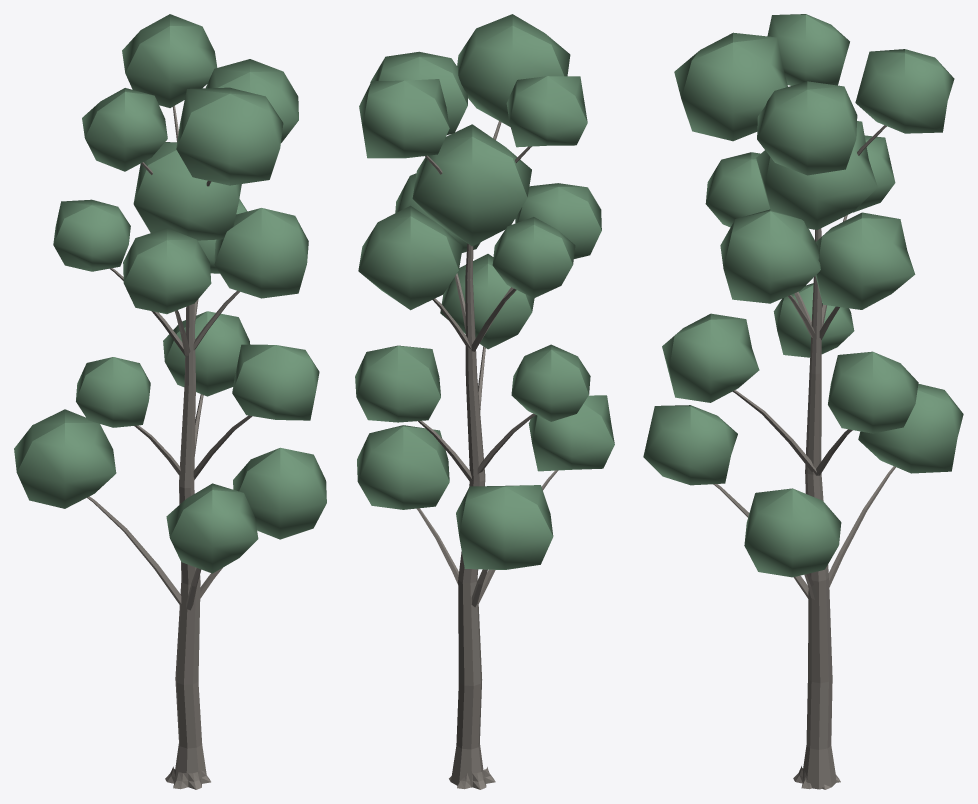
The model's file is dense-temperate-forest-flora-alder-mature-0319bc89__28333.glb.
3 views of the same model, side by side, from view 1: azimuth 30°, elevation 25°; view 2: azimuth 150°, elevation 25°; view 3: azimuth 270°, elevation 25° (orthographic). The views are drawn at different scales.
Visible parts, largest first — view 1: alder-mature; view 2: alder-mature; view 3: alder-mature.
Part boxes in pixels (x1,y1,x2,y2): alder-mature: [14, 14, 326, 789]; alder-mature: [355, 14, 614, 789]; alder-mature: [643, 14, 963, 789].
Bounding box in the file's own units: 5.82 × 15.84 × 6.22.
